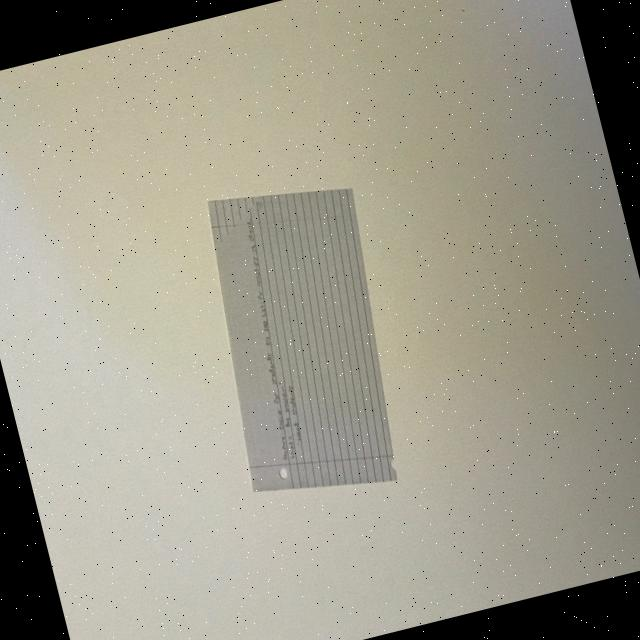paper: (180, 165, 422, 514)
